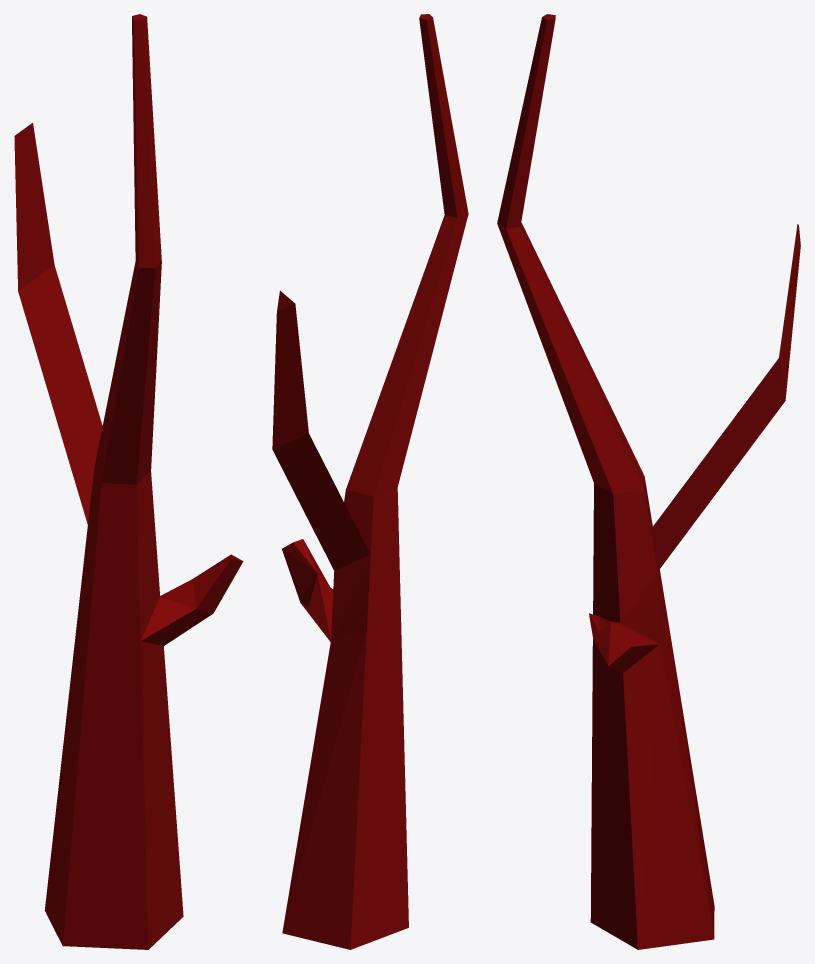
Rendered from Tree2.fbx.
3 renders of one model, left to right at view 1: azimuth 30°, elevation 25°; view 2: azimuth 150°, elevation 25°; view 3: azimuth 270°, elevation 25°, orthographic. The views are drawn at different scales.
Parts seen in each view (by area): view 1: pCylinder2; view 2: pCylinder2; view 3: pCylinder2.
Part boxes in pixels (x1,y1,x2,y2): pCylinder2: (14, 14, 243, 949); pCylinder2: (272, 14, 468, 949); pCylinder2: (497, 14, 800, 949).
Size of the model in its own units: 1.1 by 6.3 by 1.95.
